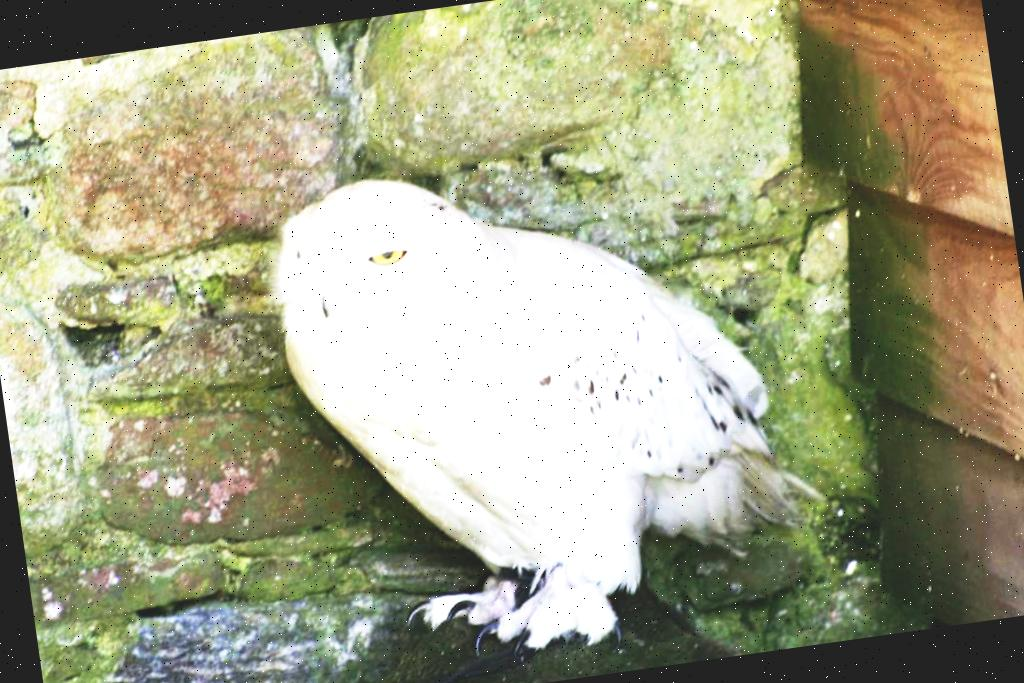Owl: (263, 118, 846, 683)
